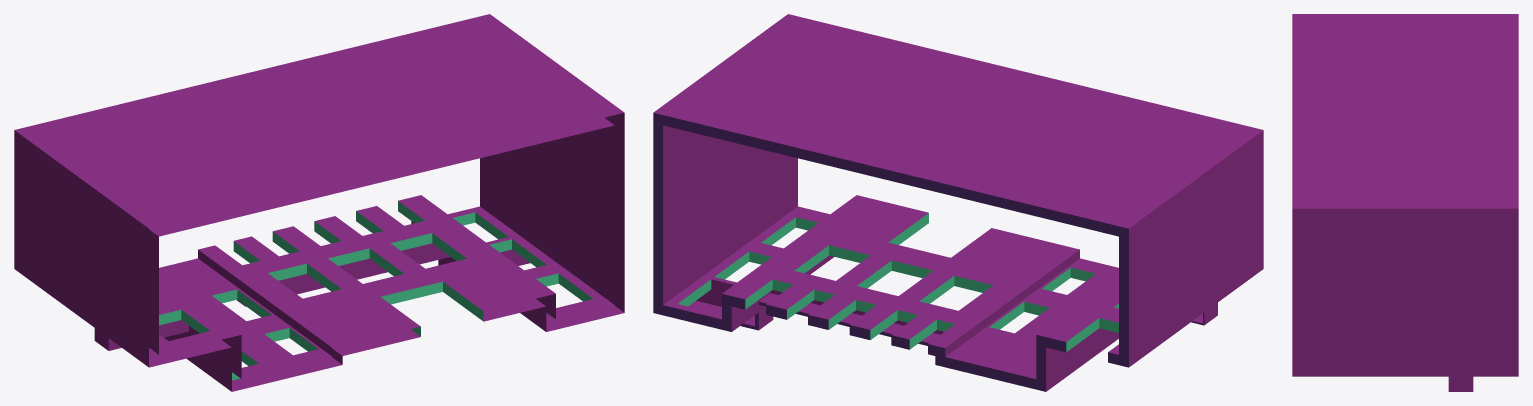
File: dom glogierow Tier 2.fbx
3 renders of one model, left to right at view 1: azimuth 30°, elevation 25°; view 2: azimuth 150°, elevation 25°; view 3: azimuth 270°, elevation 25°, orthographic. The views are drawn at different scales.
Visible parts, largest first — view 1: Dom_Glogierów_Cube.001; view 2: Dom_Glogierów_Cube.001; view 3: Dom_Glogierów_Cube.001.
Part boxes in pixels (bbox=[...]): Dom_Glogierów_Cube.001: bbox=[14, 14, 624, 391]; Dom_Glogierów_Cube.001: bbox=[653, 14, 1263, 391]; Dom_Glogierów_Cube.001: bbox=[1292, 14, 1518, 391].
Size of the model in its own units: 4.57 by 2.01 by 2.24.
